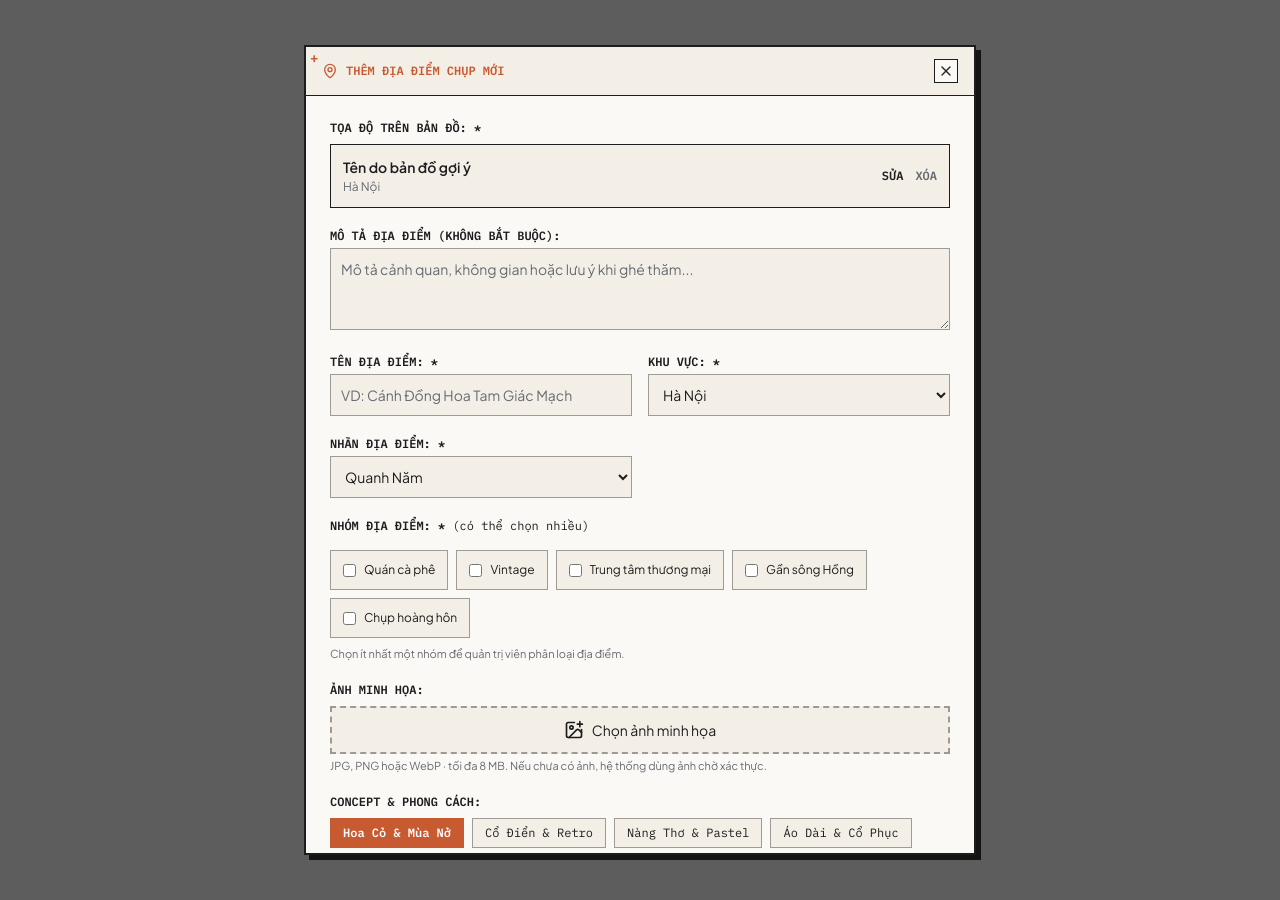
Test: AddSpotModal › waits for persistent creation and keeps form data on server failure
In the field with placeholder "VD: Cánh Đồng Hoa Tam Giác Mạch": (481, 395) [330, 374, 632, 416], type "Vườn hoa"
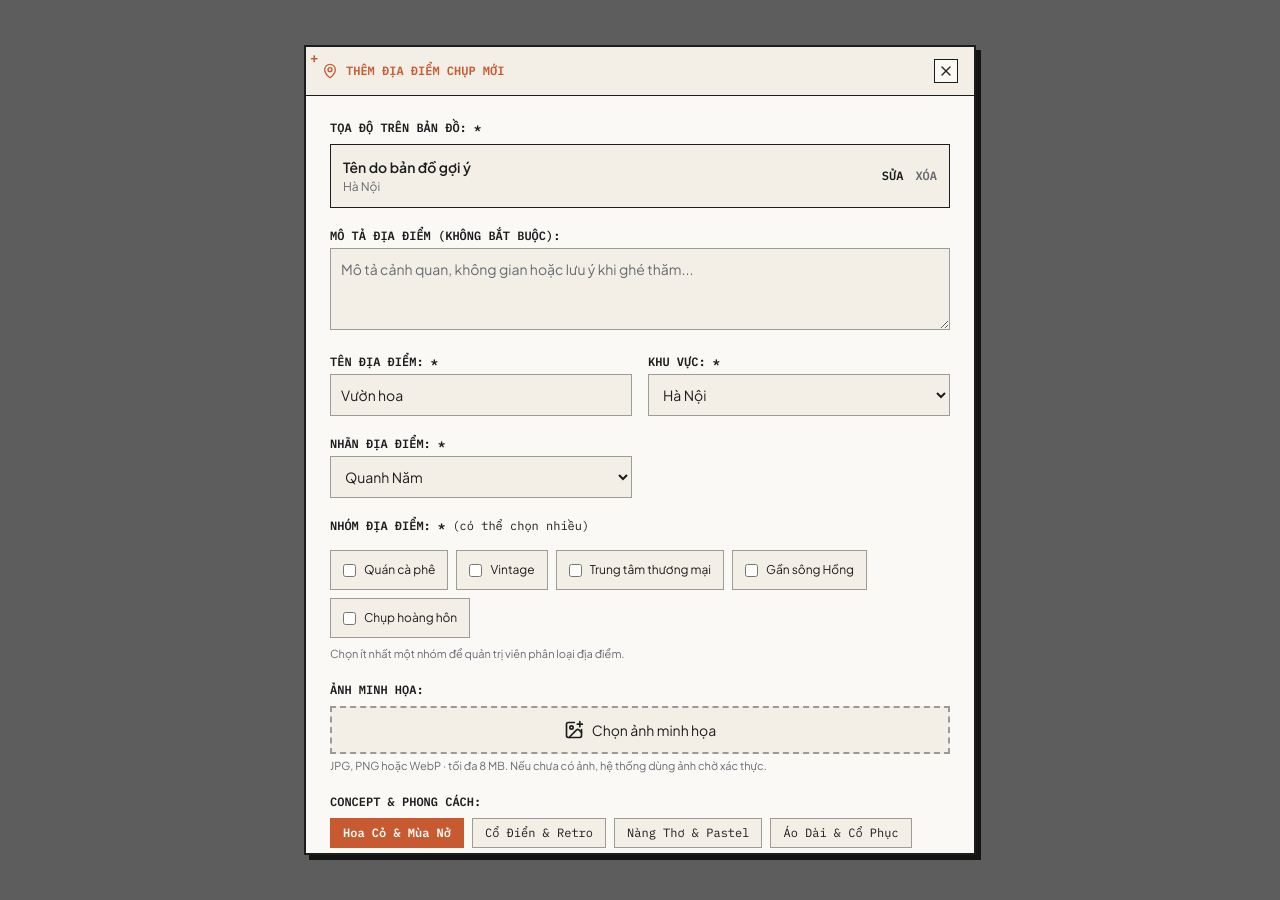
Click the checkbox named "Nhóm địa điểm: Quán cà phê": (350, 570) [343, 564, 356, 576]
(page scrolled)
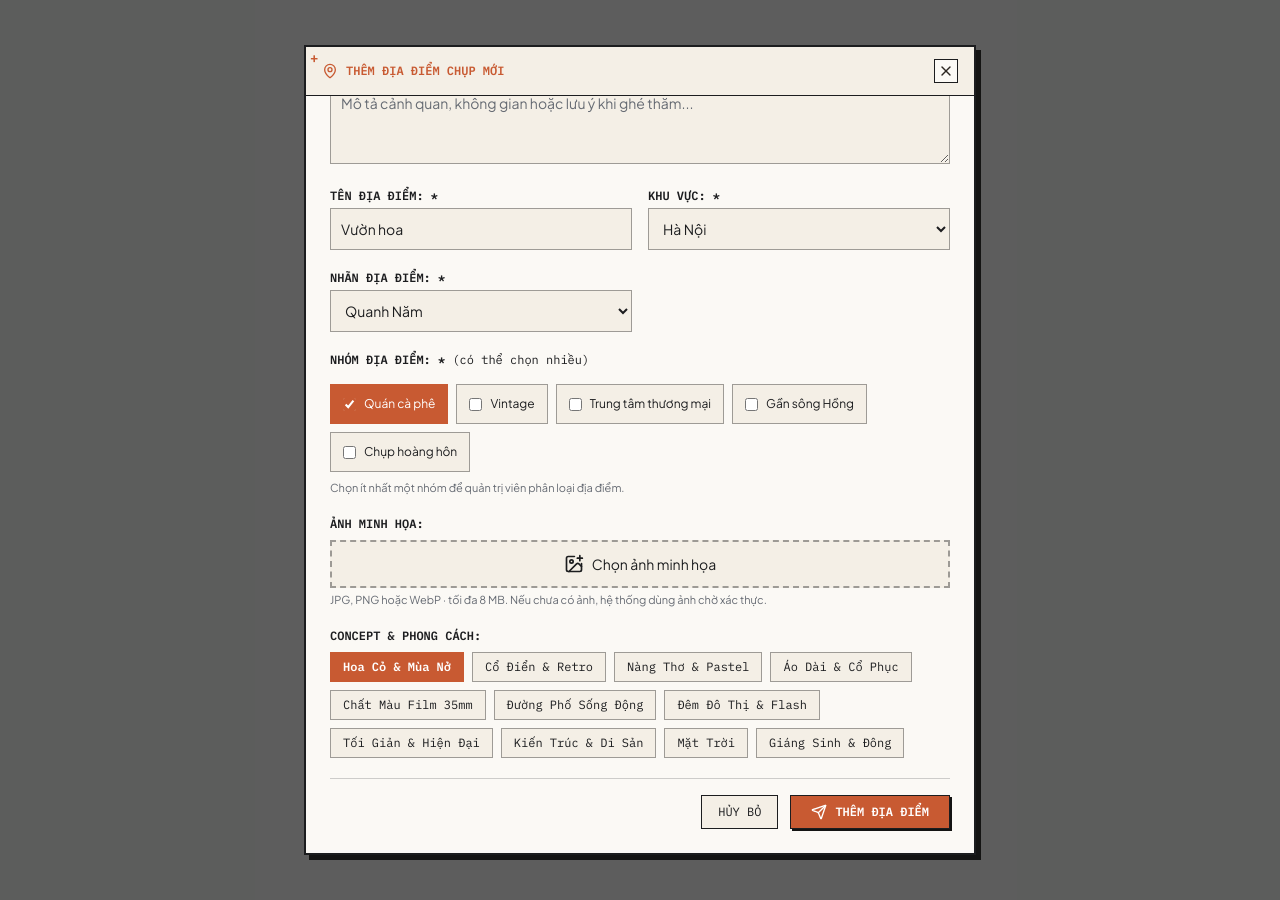
Click the button "THÊM ĐỊA ĐIỂM": (870, 812) [790, 795, 950, 829]
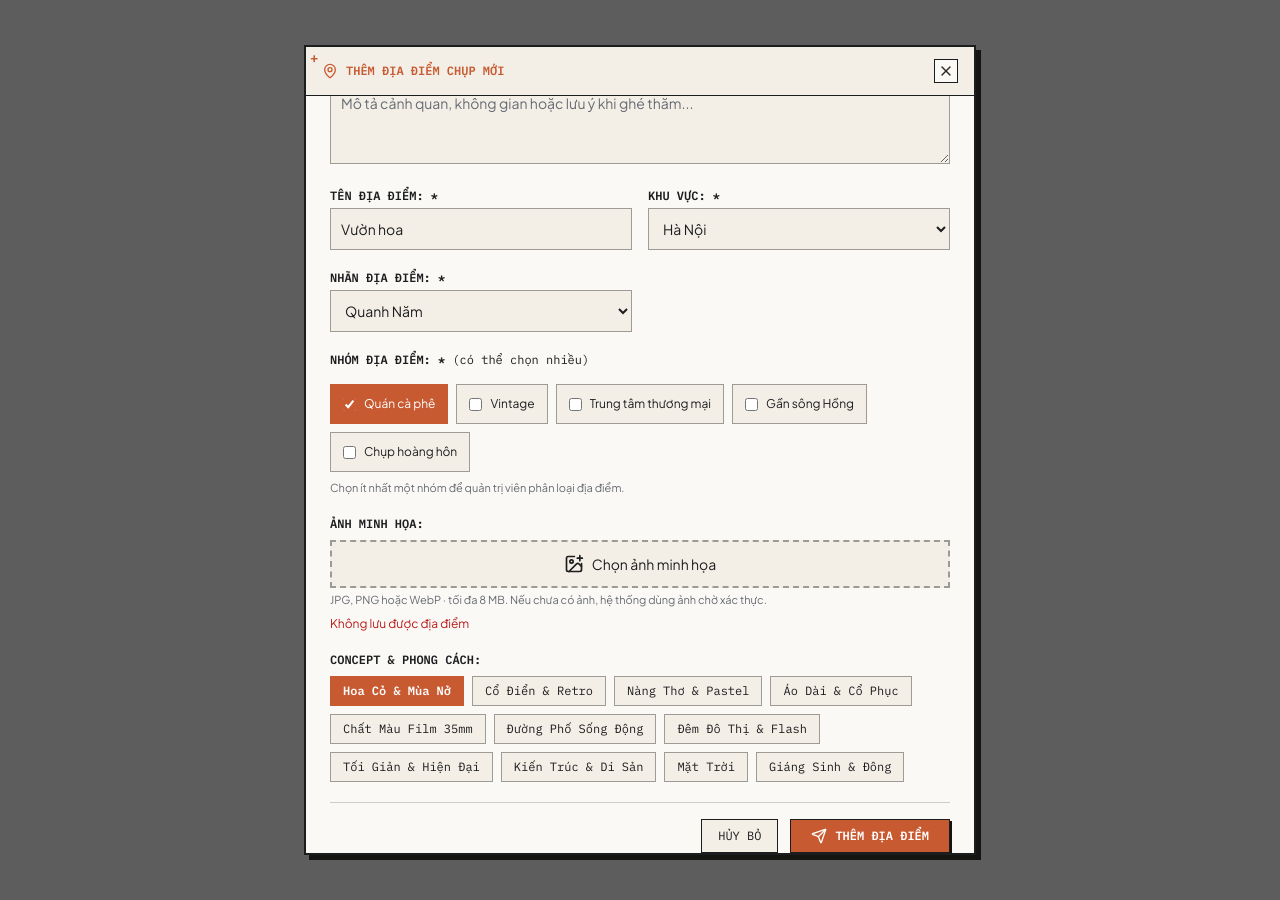
Expected: the button named "ĐANG LƯU..." is shown, [790, 819, 950, 853]
Expected: the message reads "Không lưu được địa điểm", [330, 616, 469, 631]
